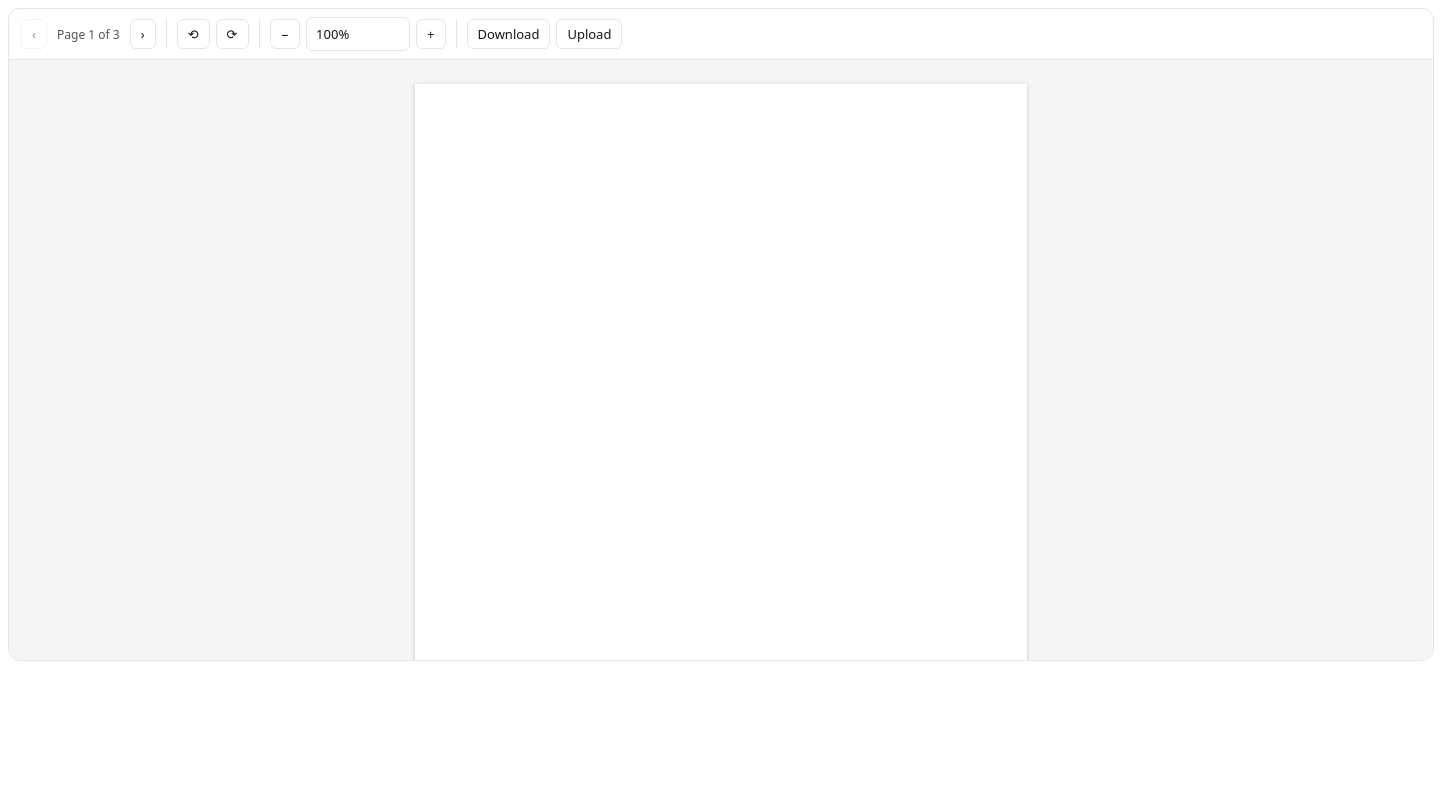
Test case: PdfViewer › changes the zoom label through the zoom controls
Expected: the text "Page 1 of 3" is shown, [53,26,124,42]
Expected: the text with test id "pdf-zoom-label" reads "100%", [316,25,349,43]
Click the button named "Zoom in". click: (431, 34)
box: [416,19,446,49]
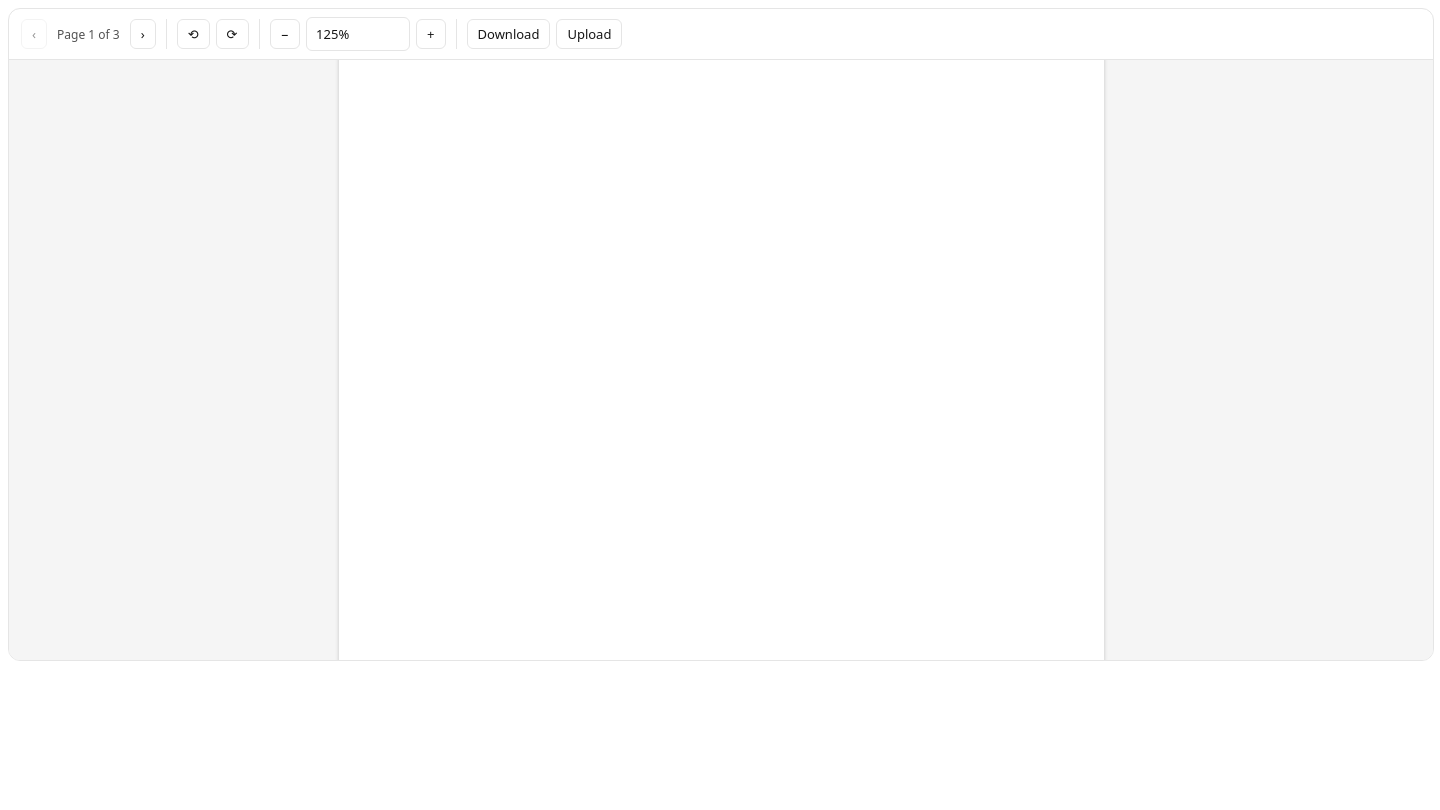
Result: the text with test id "pdf-zoom-label" reads "125%" at [316,25,349,43]
Click the button named "Zoom out". click: (285, 34)
box: [270,19,300,49]
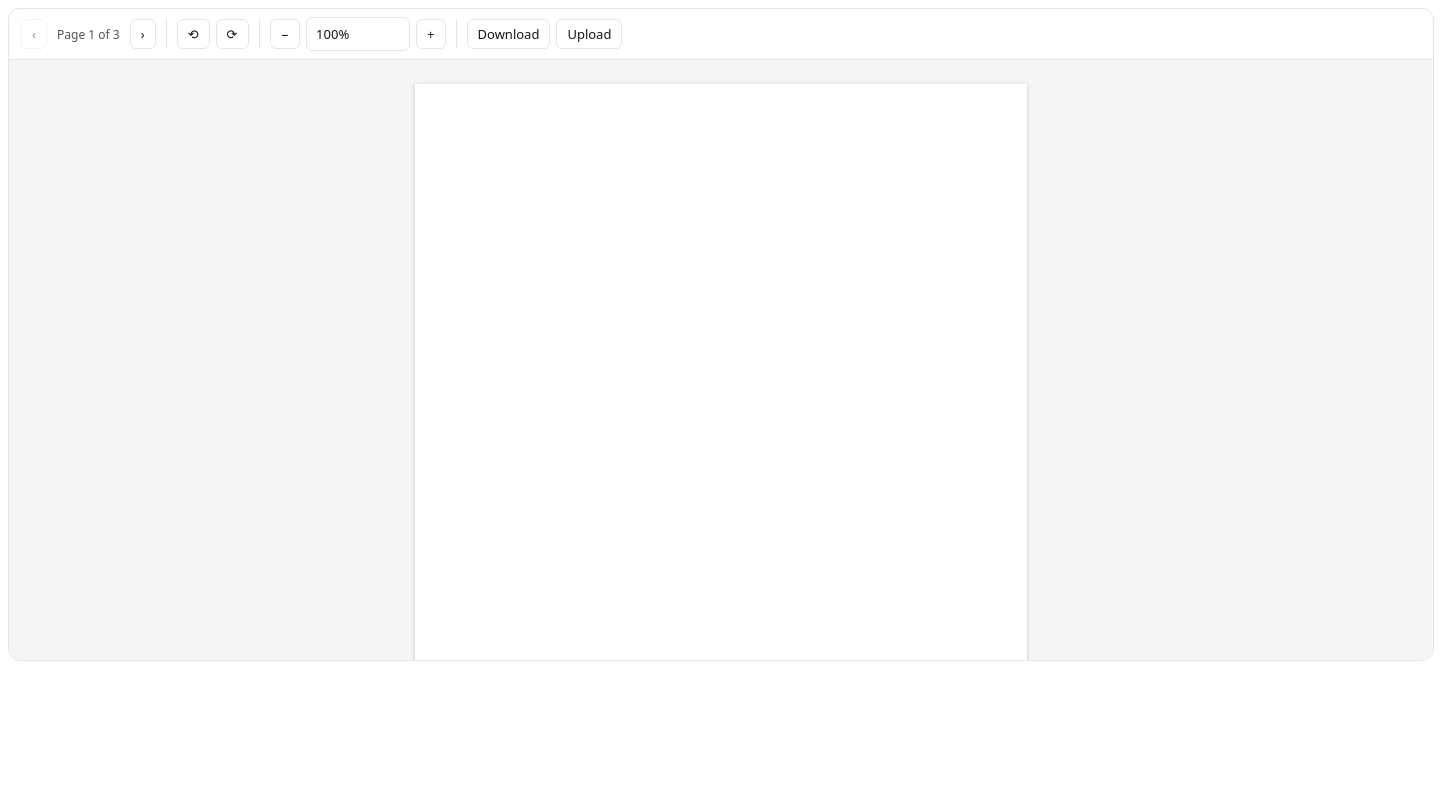
Click the button named "Zoom out". click: (285, 34)
box: [270,19,300,49]
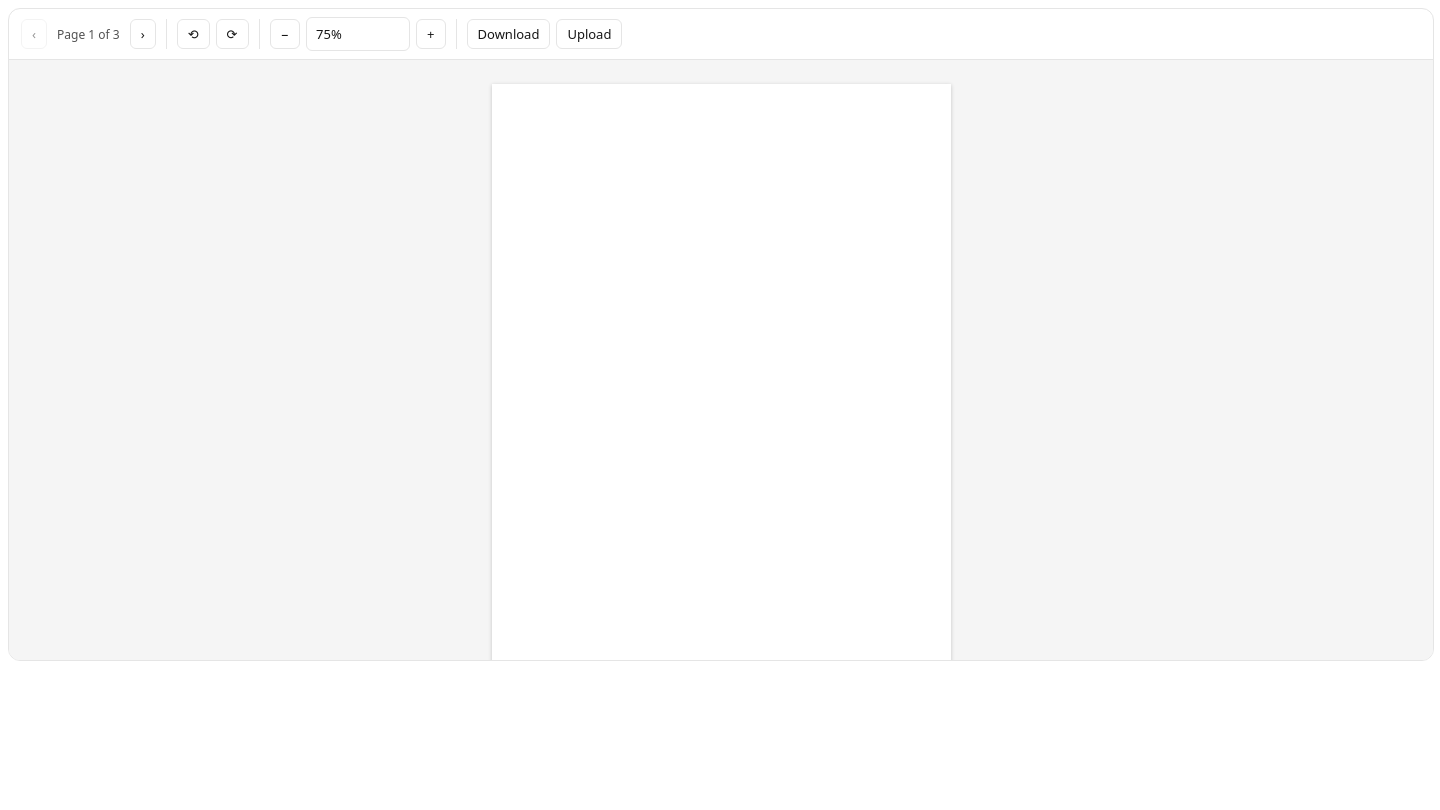
Result: the text with test id "pdf-zoom-label" reads "75%" at [316,25,342,43]
